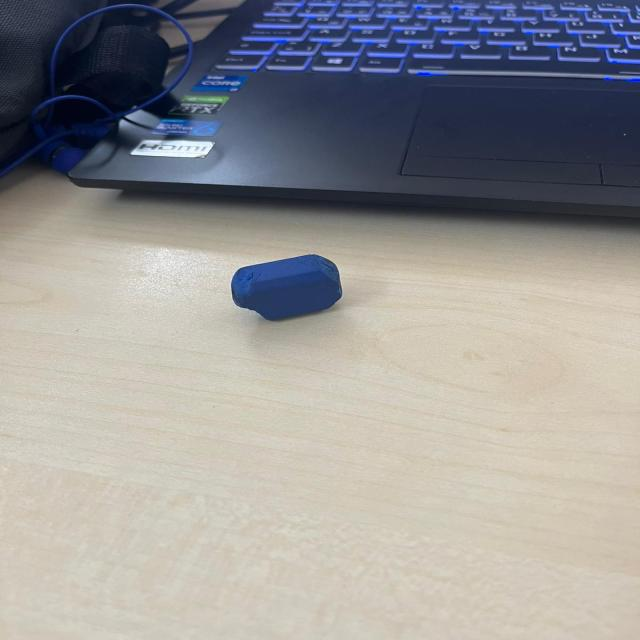eraser: (224, 250, 348, 323)
